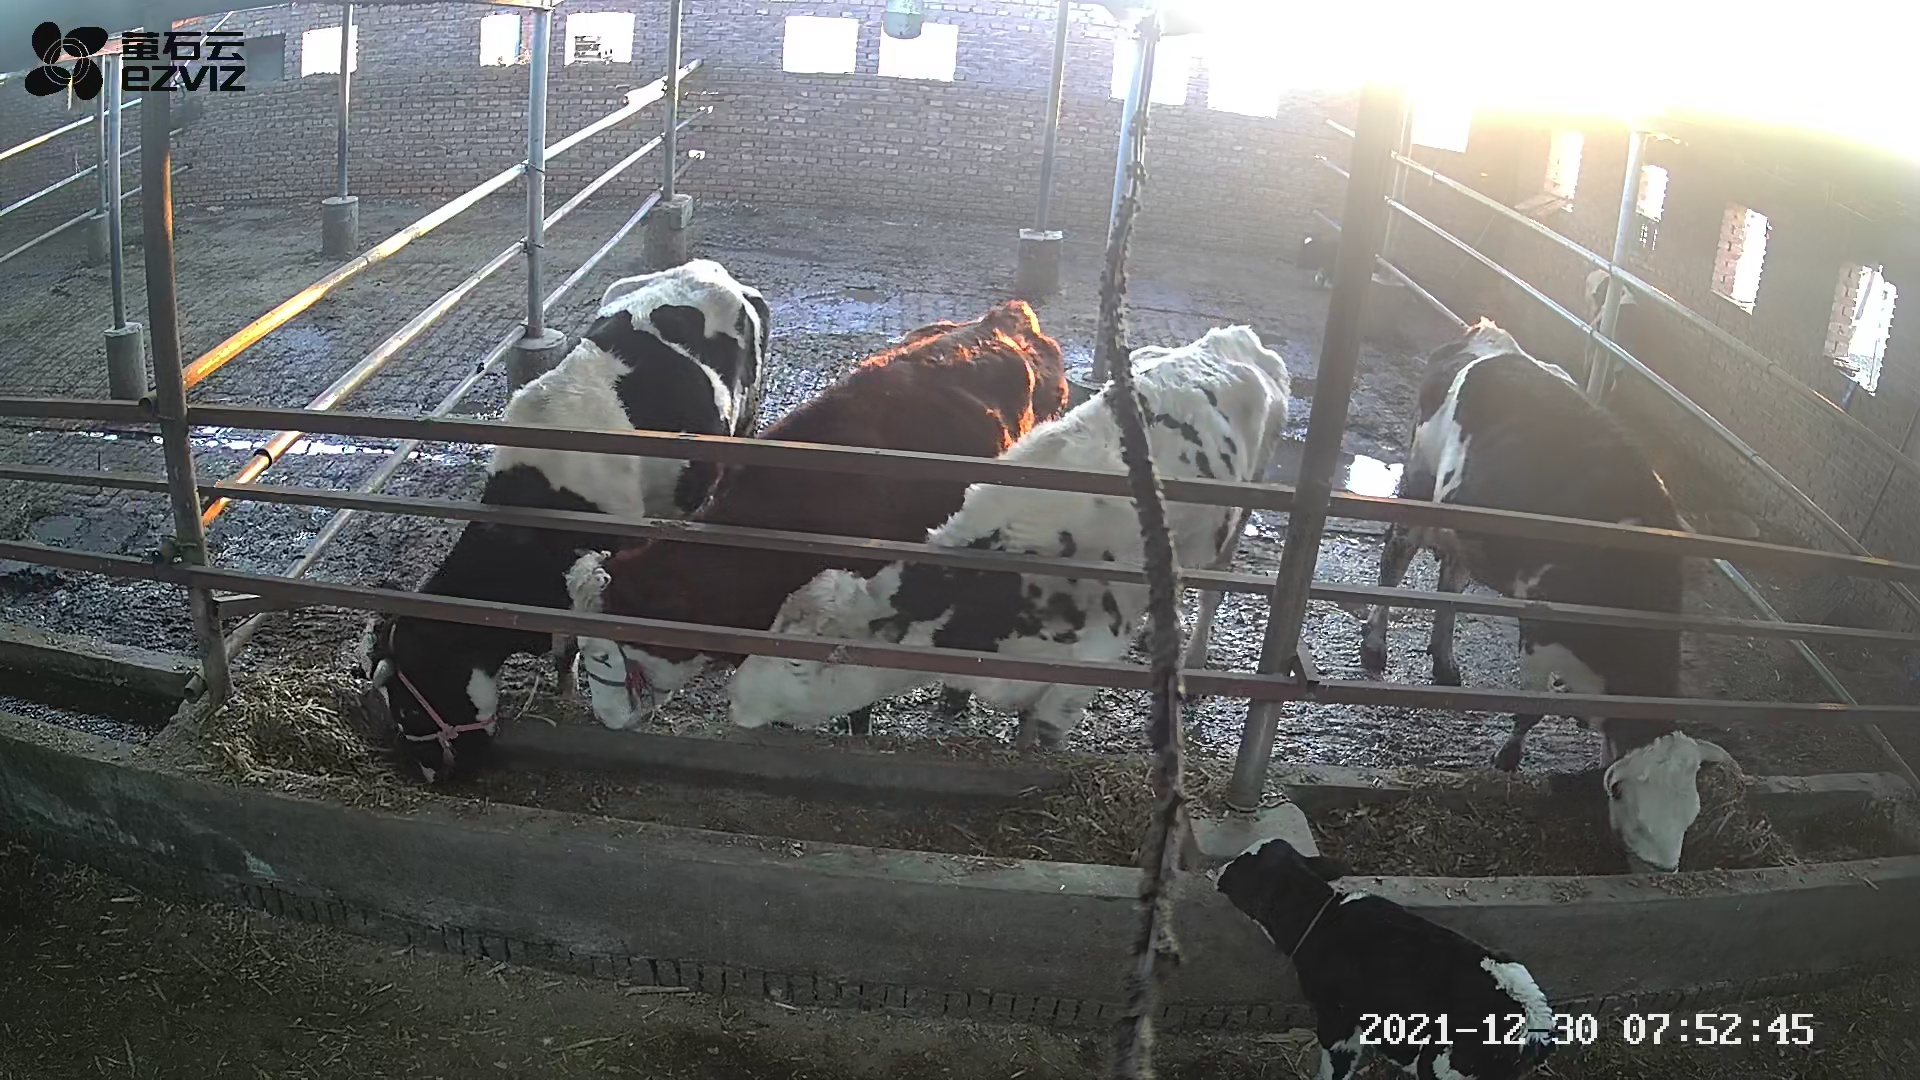cow: (721, 320, 1283, 750), (348, 256, 767, 790), (564, 298, 1069, 731), (1358, 315, 1745, 876)
